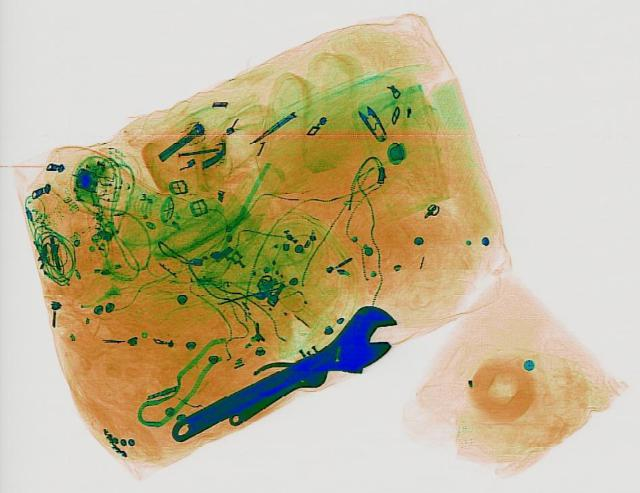Wrench: (150, 298, 418, 459)
